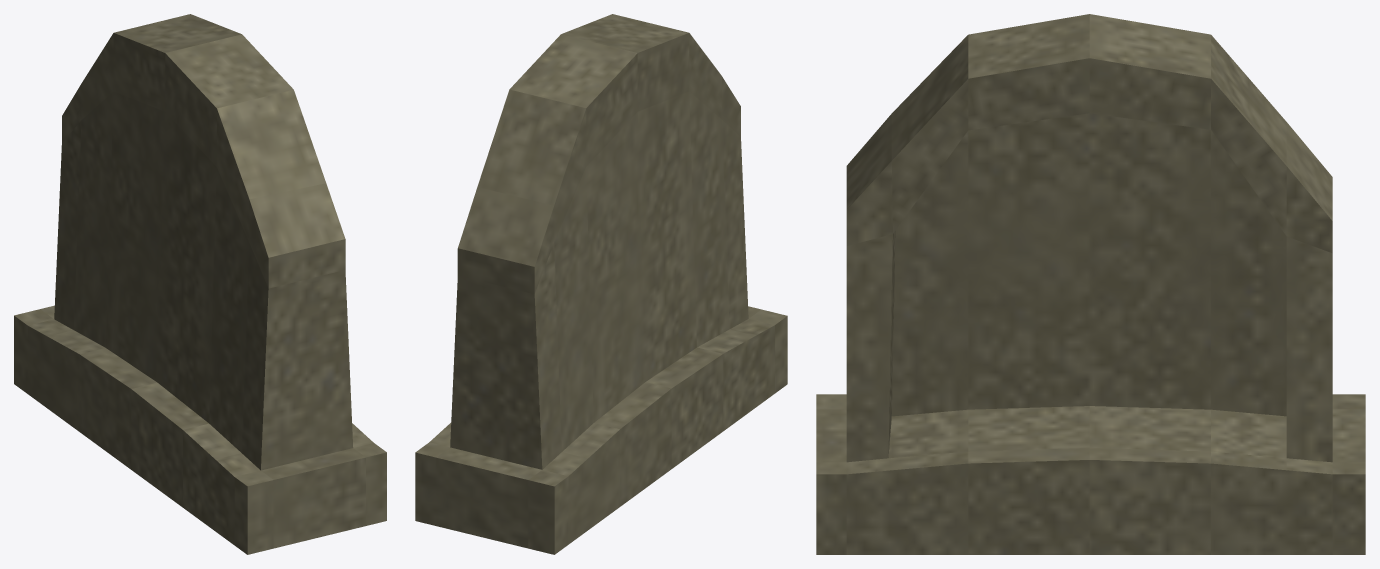
File: Acosta_I_Tombstone2Short.fbx
3 views of the same model, side by side, from view 1: azimuth 30°, elevation 25°; view 2: azimuth 150°, elevation 25°; view 3: azimuth 270°, elevation 25° (orthographic). The views are drawn at different scales.
Parts seen in each view (by area): view 1: Cube; view 2: Cube; view 3: Cube.
Boxes of the visible parts, x1,y1,x2,y2 form: Cube: [14, 14, 386, 554]; Cube: [415, 14, 787, 554]; Cube: [816, 14, 1365, 554].
Bounding box in the file's own units: 200 × 560 × 580.
1 material, 1 textured.
